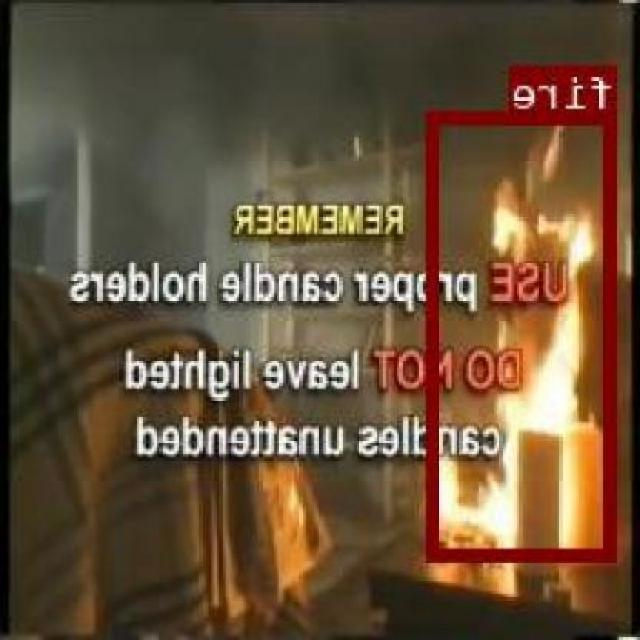Fire: (428, 110, 620, 558)
